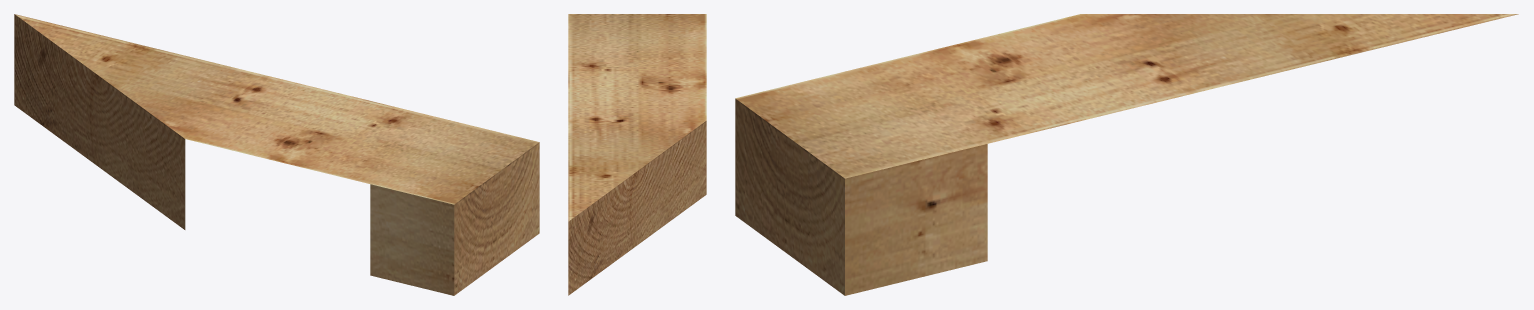
3 views of the same model, side by side, from view 1: azimuth 30°, elevation 25°; view 2: azimuth 150°, elevation 25°; view 3: azimuth 270°, elevation 25° (orthographic). The views are drawn at different scales.
Visible parts, largest first — view 1: Joint_0_Object_0; view 2: Joint_0_Object_0; view 3: Joint_0_Object_0.
Part boxes in pixels (x1,y1,x2,y2): Joint_0_Object_0: (14,14,539,295); Joint_0_Object_0: (568,14,706,295); Joint_0_Object_0: (735,14,1518,295).
Size of the model in its own units: 1294 by 430 by 2606.
Materials: 1 (1 with a texture image).
